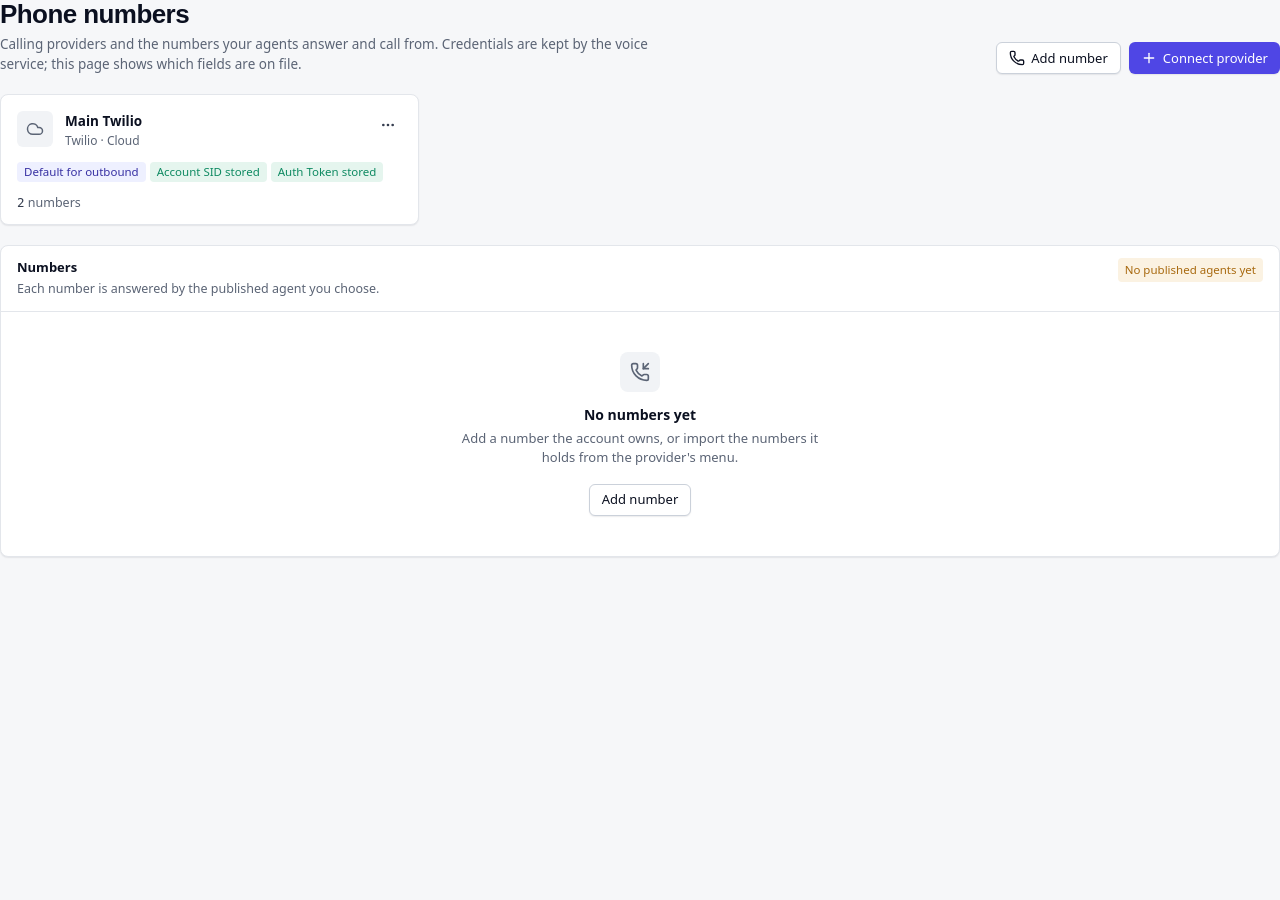
PhoneNumbersPage › shows the API's conflict message when a provider in use can't be disconnected
Expected: the text "Main Twilio" is shown, [65, 112, 142, 130]
Expected: the text "Default for outbound" is shown, [17, 162, 146, 182]
Click the button named "Actions for Main Twilio" at [388, 125], box [374, 111, 402, 139]
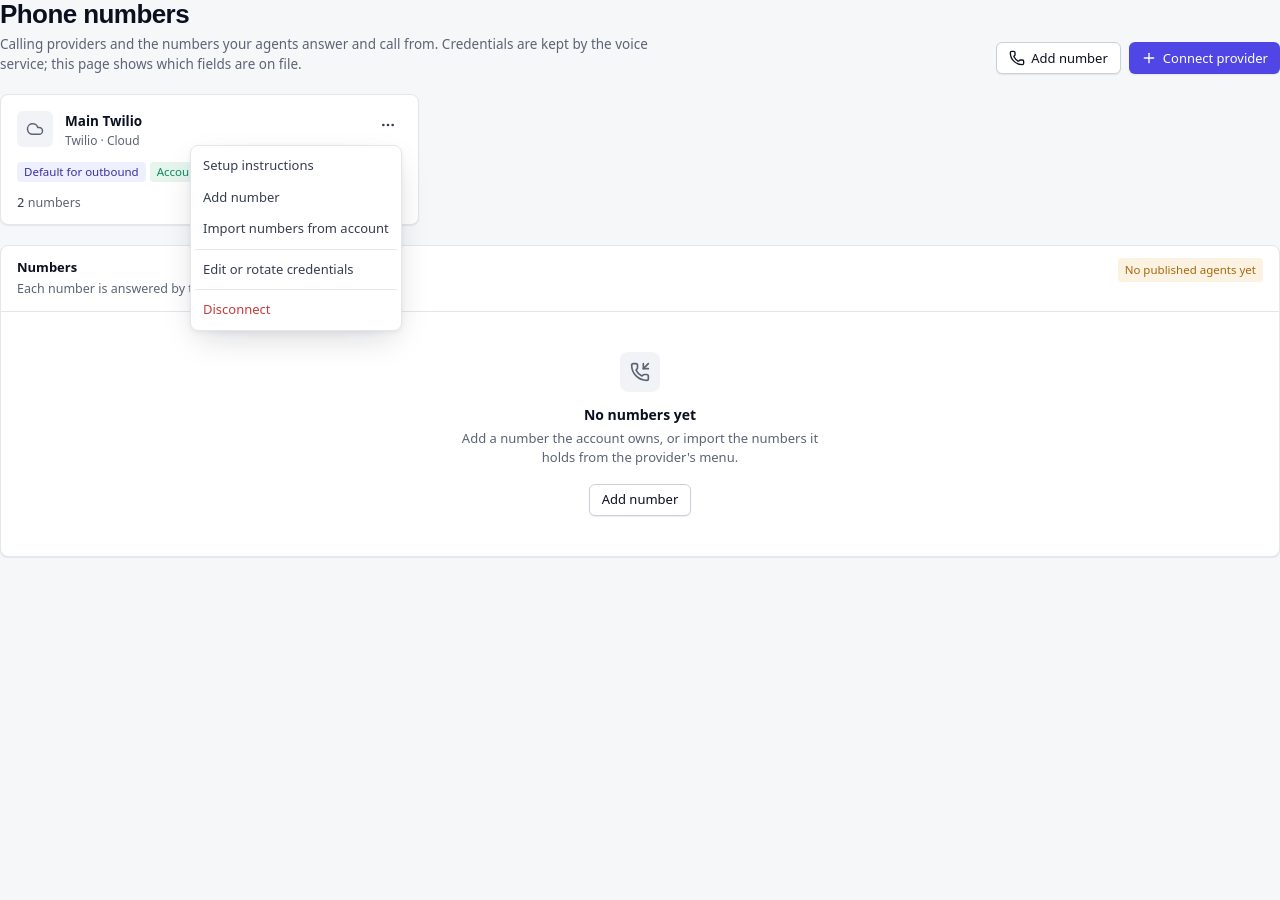
Click the menu item "Disconnect" at [237, 309], box [203, 300, 270, 318]
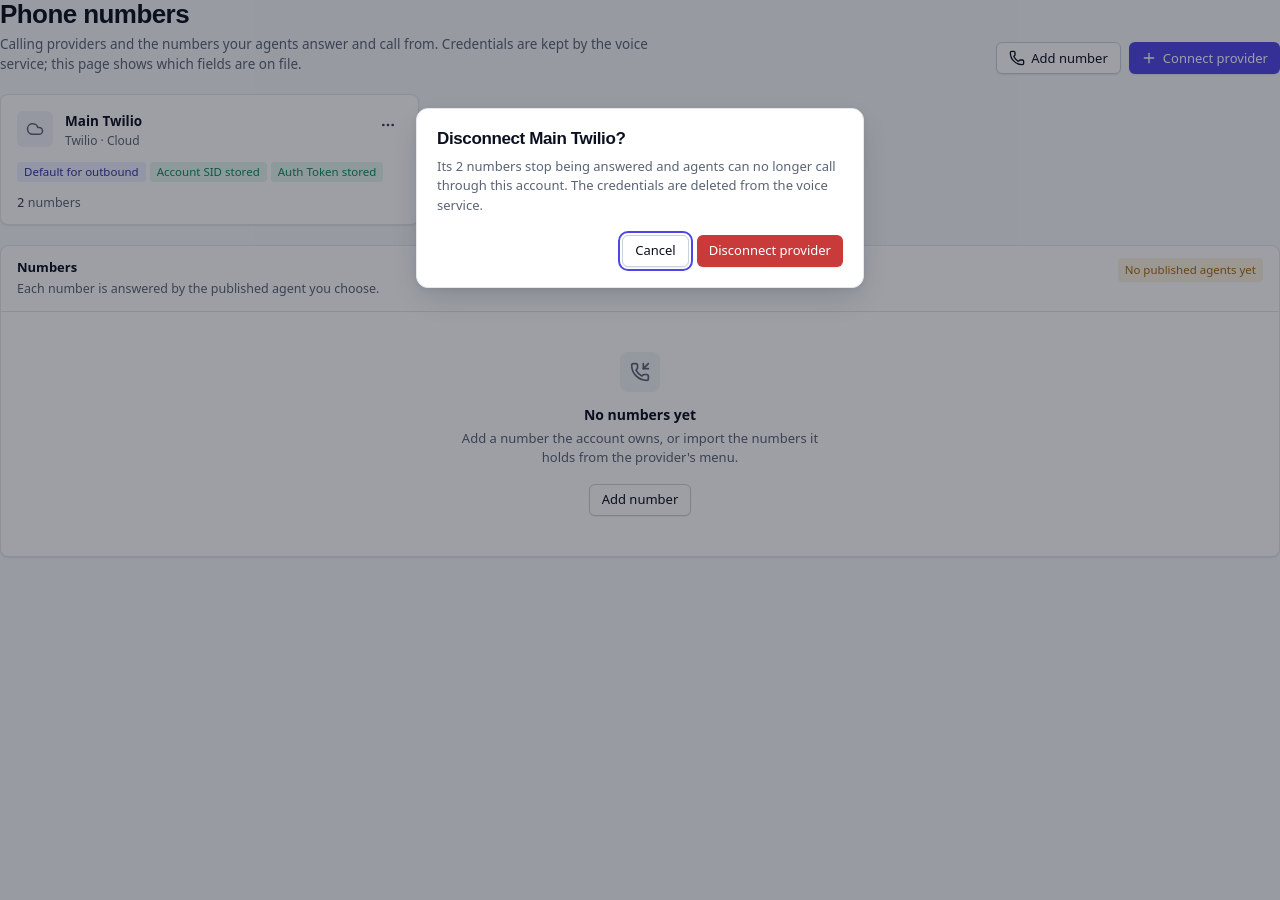
Click the button "Disconnect provider" at [770, 251], box [697, 235, 843, 267]
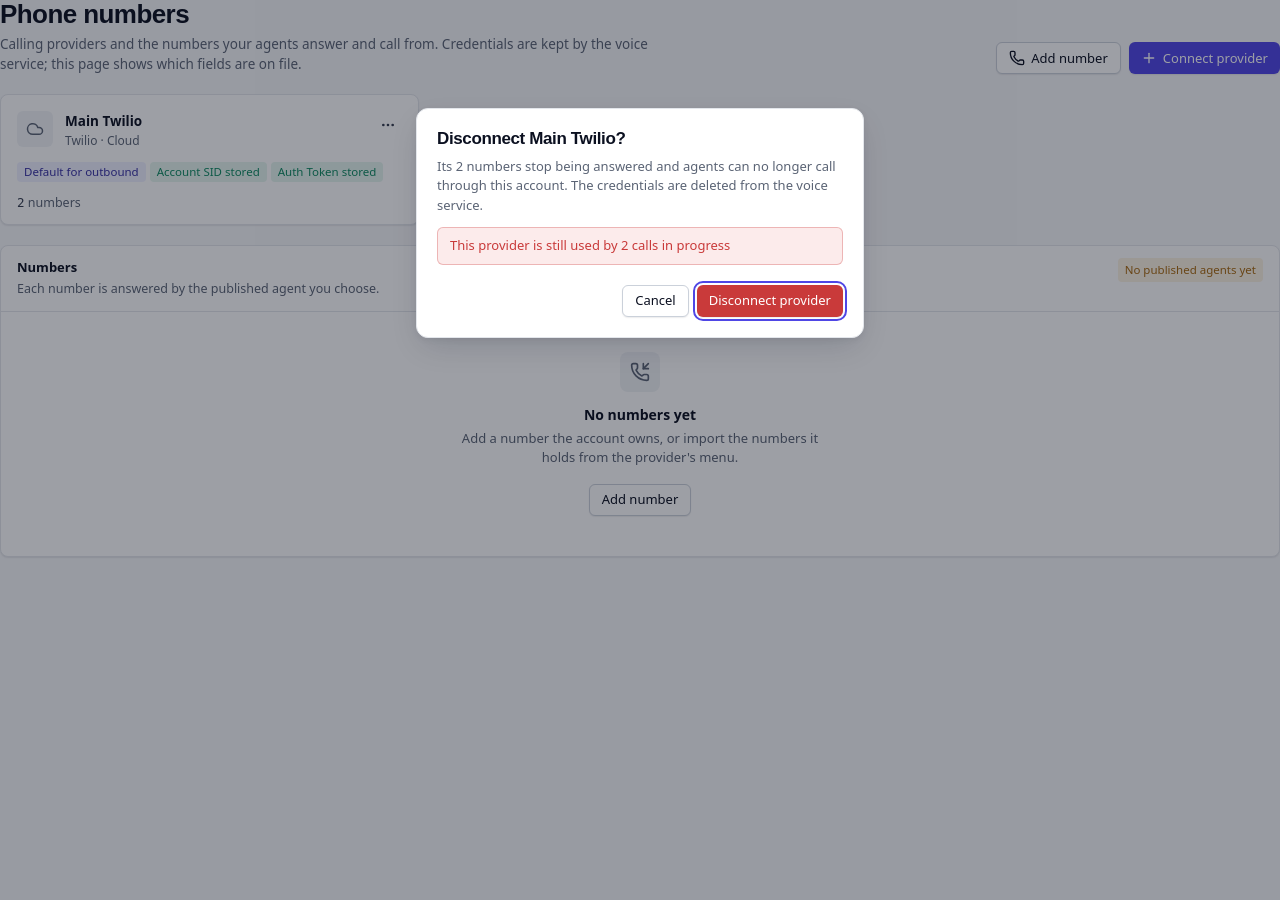
Expected: the message reads "This provider is still used by 2 calls in progress", [450, 236, 730, 254]
